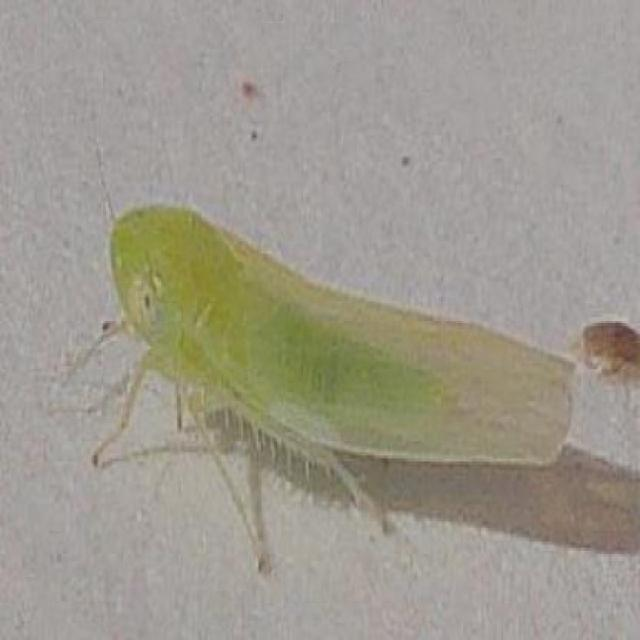green-leafhopper: (69, 204, 578, 576)
